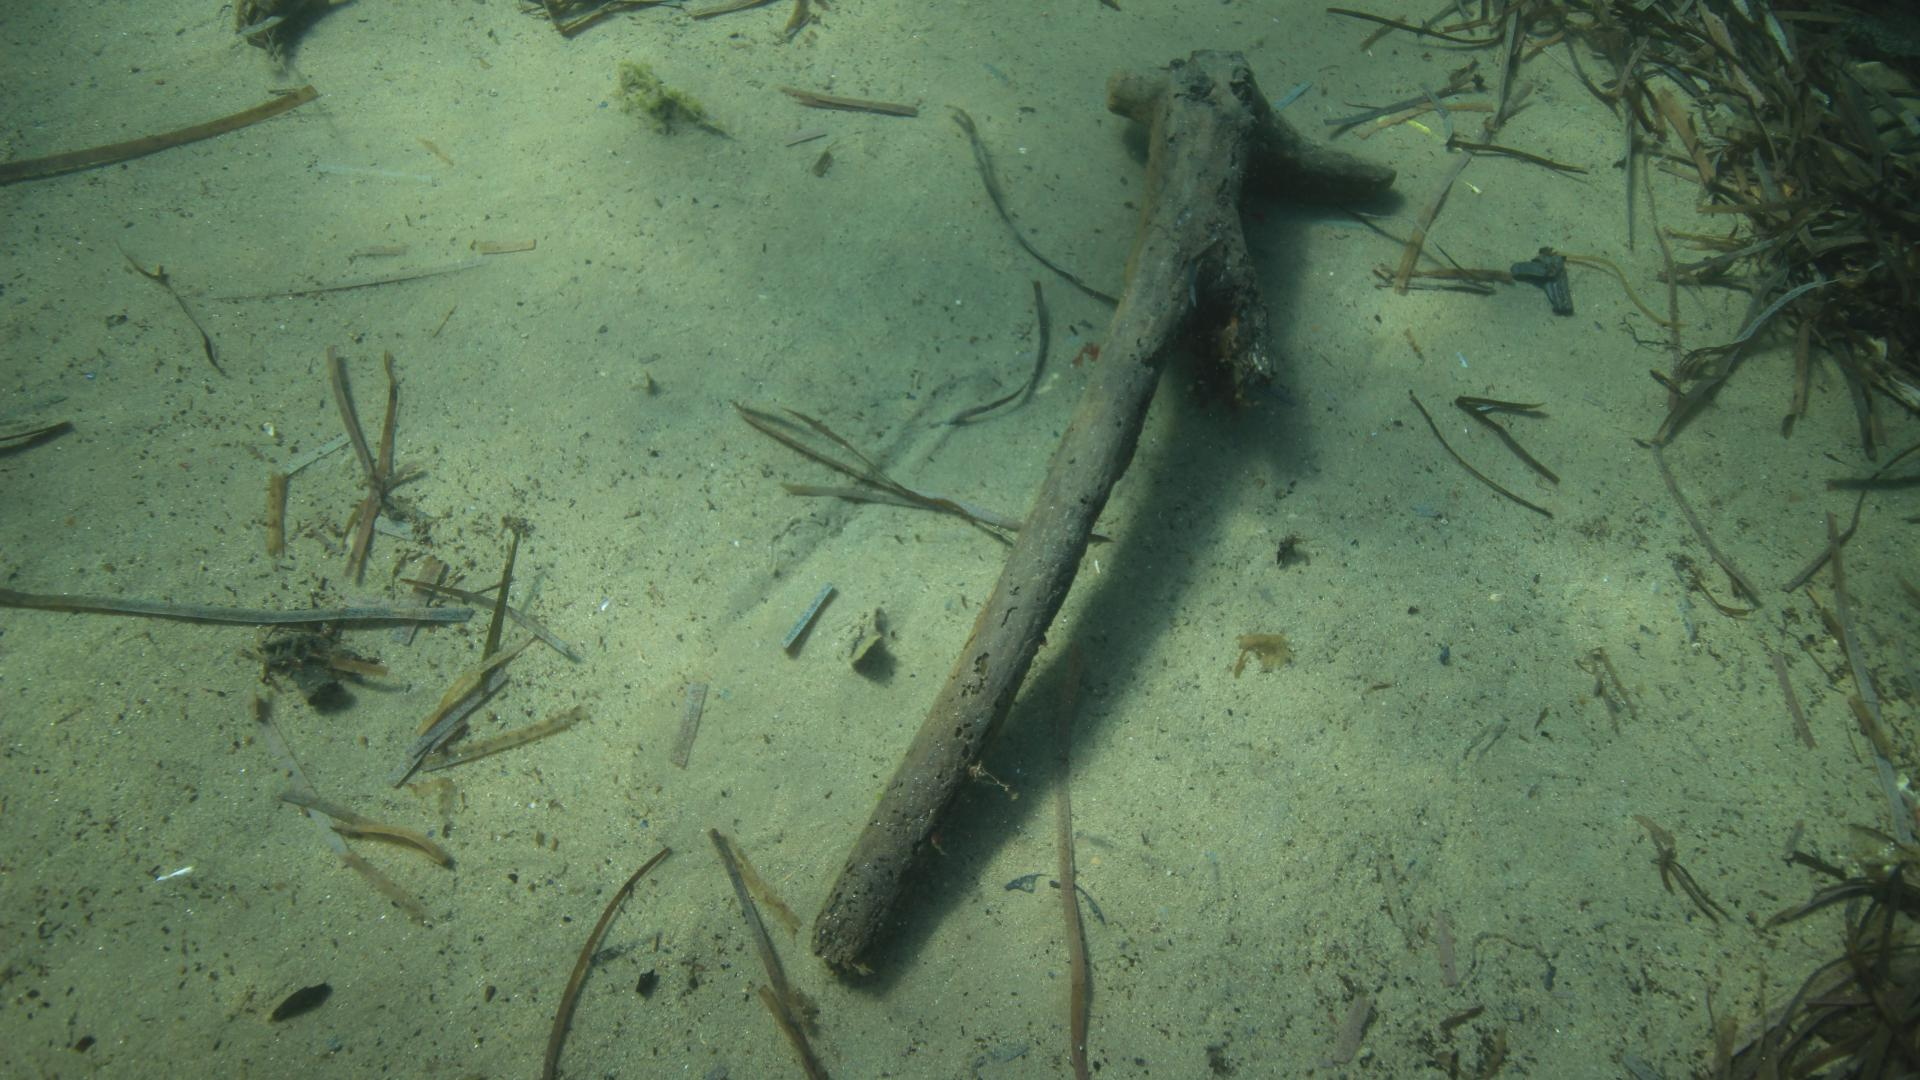wood: (807, 49, 1394, 975)
